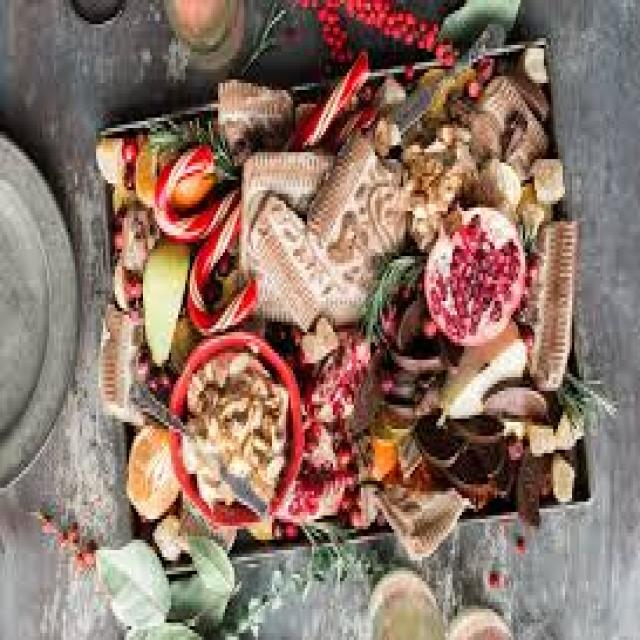organic waste: (183, 45, 366, 332), (150, 104, 373, 238), (274, 318, 375, 519), (237, 145, 333, 353), (298, 128, 410, 291), (246, 187, 359, 318), (422, 197, 523, 339), (436, 312, 535, 418), (183, 349, 284, 446), (87, 540, 171, 633), (527, 215, 572, 388), (373, 470, 462, 557), (180, 432, 279, 508), (326, 0, 452, 59), (295, 512, 380, 595), (136, 232, 188, 366), (96, 297, 148, 418), (354, 246, 422, 336), (124, 418, 181, 522), (150, 110, 234, 170), (242, 560, 310, 630), (481, 80, 551, 145), (28, 502, 94, 570), (434, 0, 518, 52), (178, 519, 235, 595), (154, 132, 208, 204), (556, 367, 614, 432), (441, 446, 506, 502), (180, 581, 242, 637), (232, 0, 281, 69), (178, 505, 237, 561), (469, 156, 518, 218), (412, 66, 469, 118), (300, 0, 349, 59), (455, 93, 504, 149), (380, 450, 436, 494), (520, 404, 572, 450), (115, 207, 152, 270), (358, 426, 398, 484), (415, 412, 457, 467), (288, 315, 338, 360), (321, 104, 375, 145), (336, 478, 378, 530), (282, 467, 324, 515), (108, 259, 143, 315), (546, 449, 579, 508), (370, 394, 408, 443), (147, 505, 180, 561), (166, 312, 197, 371), (134, 135, 160, 204), (530, 152, 562, 208), (466, 432, 508, 474), (92, 135, 125, 187), (514, 35, 548, 83), (314, 467, 347, 515), (126, 616, 202, 636), (450, 405, 499, 436), (518, 184, 551, 228), (518, 69, 549, 114), (392, 429, 419, 477), (502, 107, 522, 156), (373, 73, 403, 100), (336, 481, 364, 508), (523, 249, 544, 284), (117, 132, 141, 162), (239, 516, 274, 536), (504, 426, 525, 456), (108, 183, 126, 218), (336, 460, 356, 491), (270, 519, 296, 540), (516, 284, 532, 314), (148, 367, 168, 391), (117, 159, 134, 187), (485, 560, 504, 584), (208, 246, 228, 266), (473, 55, 492, 76), (202, 273, 213, 301), (516, 530, 525, 554), (464, 72, 478, 86), (354, 80, 366, 94), (108, 204, 119, 218), (108, 225, 117, 242), (127, 276, 136, 290)
